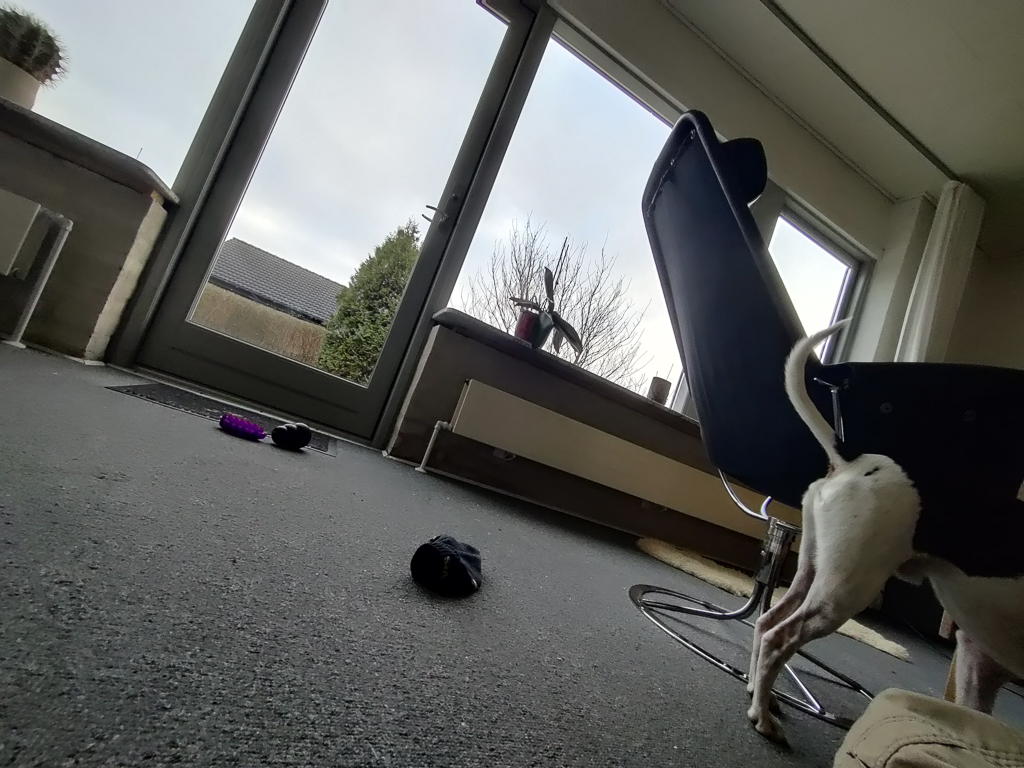Dog: (738, 316, 1024, 747)
Humanoid: (811, 664, 1024, 768)
